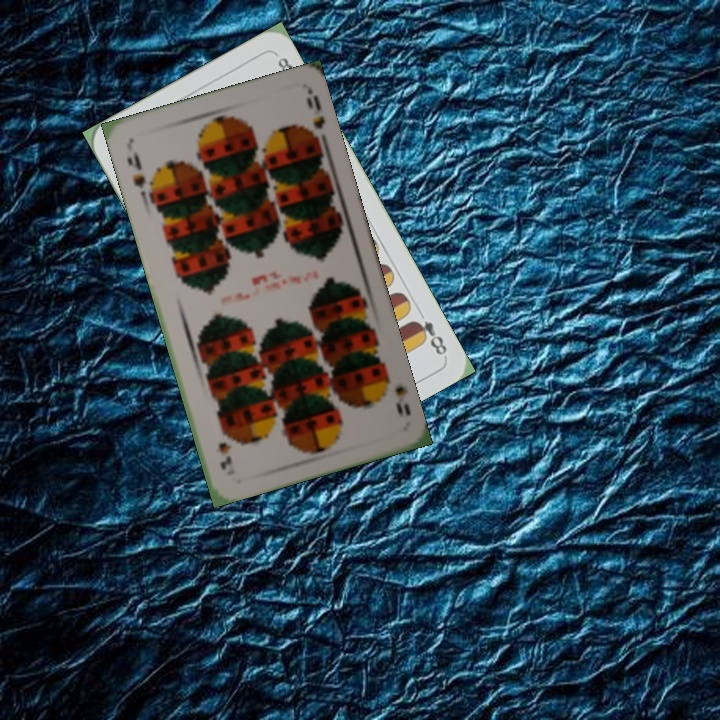E8: (408, 316, 450, 358)
S9: (381, 368, 413, 418), (123, 147, 148, 192)
